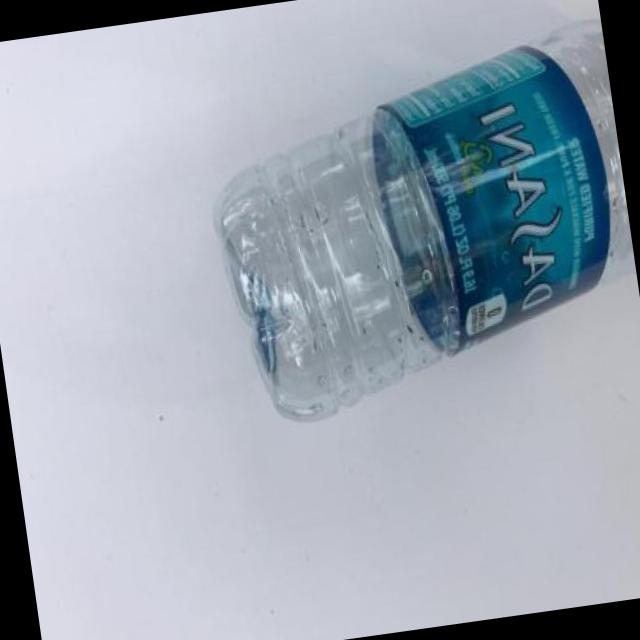plastic_bottle: (195, 18, 640, 433)
